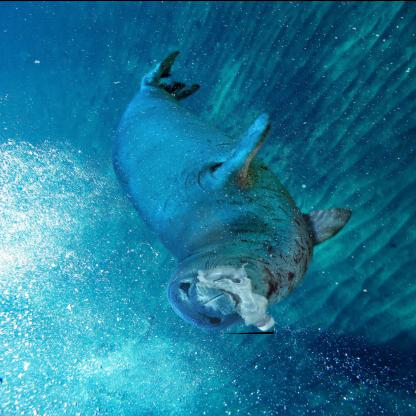bottle: (197, 264, 275, 332)
